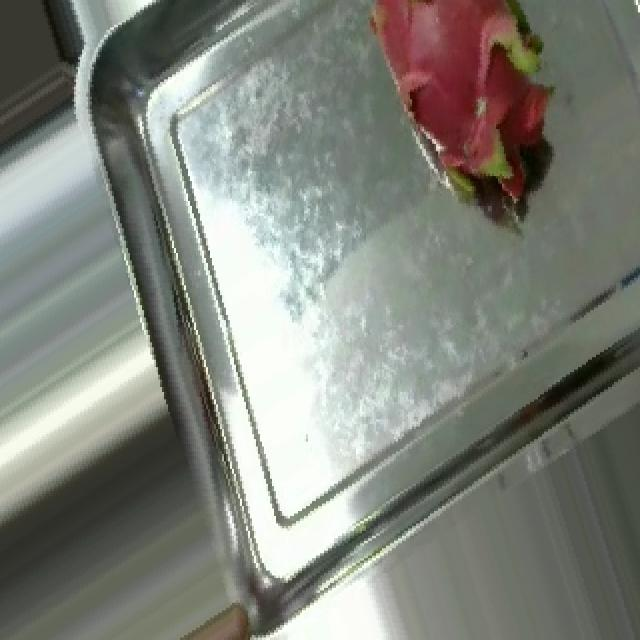fruit: (310, 0, 636, 258)
